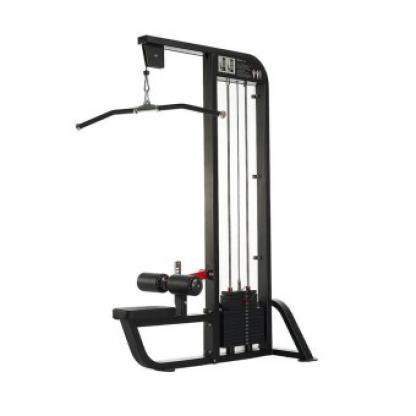Lat Pull Down: (69, 27, 331, 380)
